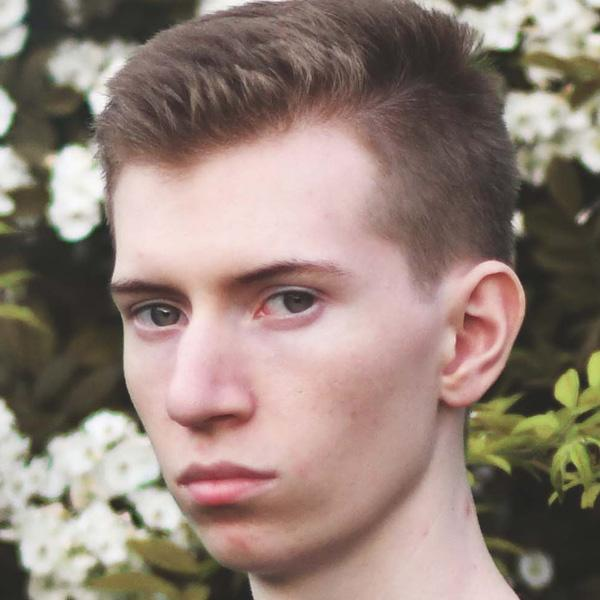Eyes: (245, 275, 335, 333), (116, 293, 196, 342)
